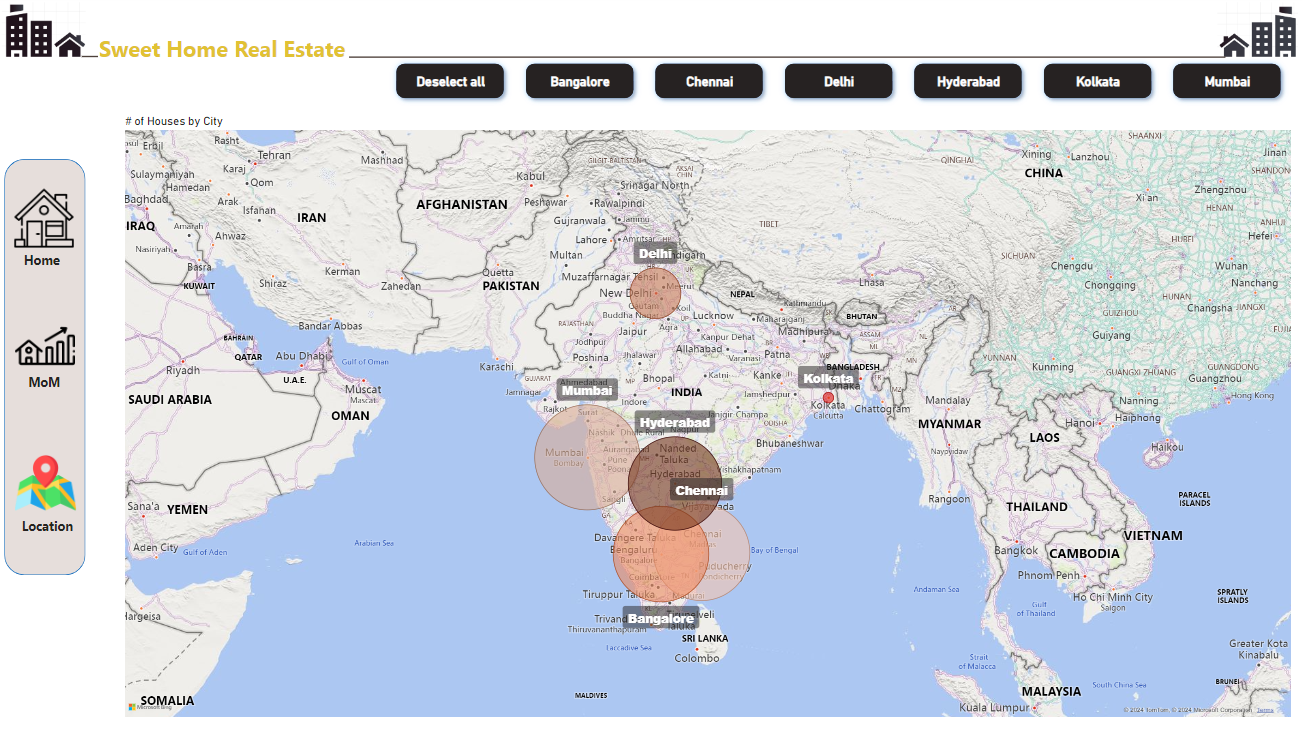

Layout of this report page (visuals, bound fields, positions):
{"tool":"powerbi","page":{"name":"Location","canvas":[1920,1080],"ordinal":2},"visuals":[{"type":"map","fields":{"Category":["House_Rent_Dataset.City"],"Size":["CountNonNull(House_Rent_Dataset.Index)"]},"box":[182.5,169.4,1720.4,890],"z":0},{"type":"image","title":"MoM_bw","box":[20.8,460.4,97.5,97.5],"z":0,"group":"g3"},{"type":"image","title":"Map_color","box":[20.2,659.8,99,99],"z":0,"group":"g4"},{"type":"image","box":[0,0,133.9,89.9],"z":1000},{"type":"textbox","box":[143.1,45.2,399.9,55],"z":2000},{"type":"image","title":"houseBW","box":[18.1,273.2,99,97.2],"z":2000,"group":"g2"},{"type":"image","box":[1775.6,0,144.9,89.9],"z":3000},{"type":"shape","box":[515.4,80.7,1285.8,9.2],"z":4000},{"type":"shape","box":[122.9,78.9,23.8,11],"z":5000},{"type":"advancedSlicerVisual","fields":{"Values":["House_Rent_Dataset.City"]},"box":[571.9,82.8,1326.6,75],"z":6000},{"type":"group","id":"g1","title":"leftMenu","box":[9.3,234.6,119.2,610.7],"z":7000},{"type":"shape","title":"leftMenuBox","box":[9.3,234.6,119.2,610.7],"z":28125,"group":"g1"},{"type":"textbox","title":"location","box":[18.3,755.7,108.2,42.2],"z":28187,"group":"g1"},{"type":"textbox","title":"Home","box":[9.6,365.2,110,42.5],"z":28250,"group":"g1"},{"type":"textbox","title":"MoM","box":[13.3,545.4,110,42.5],"z":28500,"group":"g1"},{"type":"group","id":"g2","title":"House","box":[18.1,273.2,99,100.2],"z":30000,"group":"g1"},{"type":"group","id":"g3","title":"MoM","box":[20.8,457.8,99.4,100.1],"z":31000,"group":"g1"},{"type":"group","id":"g4","title":"Map","box":[19.8,658,99.4,100.9],"z":32000,"group":"g1"}]}

Visuals, with their boxes in screenshot pixels (x1, y1, x2, y2), scaled from the page's 1920x1080 canvas onto the 1302x730 screenshot:
map - House_Rent_Dataset.City x CountNonNull(House_Rent_Dataset.Index): 124:115:1290:716
"MoM_bw" image: 14:311:80:377
"Map_color" image: 14:446:81:513
image: 0:0:91:61
textbox: 97:31:368:68
"houseBW" image: 12:185:79:250
image: 1204:0:1301:61
shape: 350:55:1221:61
shape: 83:53:99:61
advancedSlicerVisual - House_Rent_Dataset.City: 388:56:1287:107
"leftMenu" group: 6:159:87:571
"leftMenuBox" shape: 6:159:87:571
"location" textbox: 12:511:86:539
"Home" textbox: 7:247:81:276
"MoM" textbox: 9:369:84:397
"House" group: 12:185:79:252
"MoM" group: 14:309:82:377
"Map" group: 13:445:81:513
